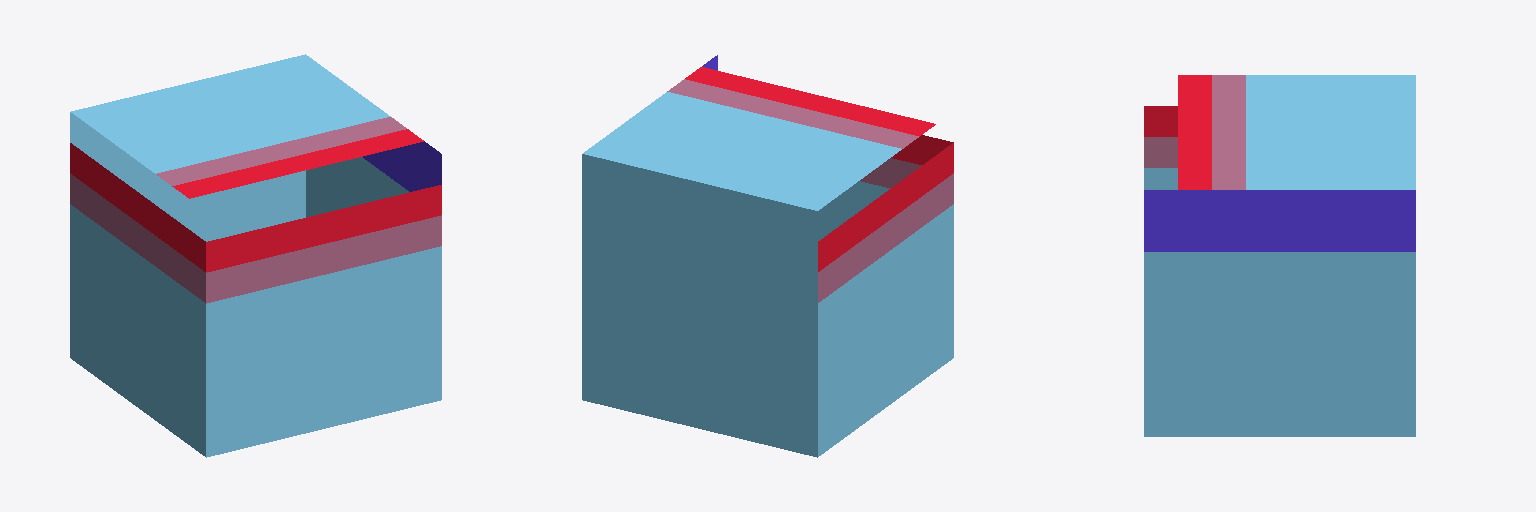
3 renders of one model, left to right at view 1: azimuth 30°, elevation 25°; view 2: azimuth 150°, elevation 25°; view 3: azimuth 270°, elevation 25°, orthographic.
Visible parts, largest first — view 1: Cube; view 2: Cube; view 3: Cube.
Part boxes in pixels (bbox=[...]): Cube: bbox=[70, 54, 441, 457]; Cube: bbox=[582, 55, 953, 457]; Cube: bbox=[1144, 75, 1415, 436].
Bounding box in the file's own units: 2 × 2 × 2.
1 materials, 1 textured.